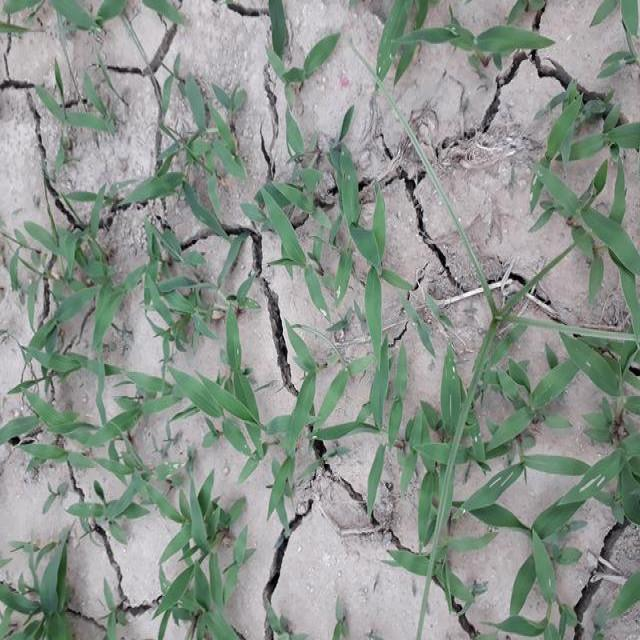weed: (35, 148, 257, 640), (392, 306, 637, 633), (270, 152, 422, 363), (543, 84, 640, 276), (266, 377, 386, 522), (368, 0, 551, 68), (169, 68, 251, 172), (34, 67, 119, 144), (265, 1, 331, 88), (47, 0, 193, 25)
